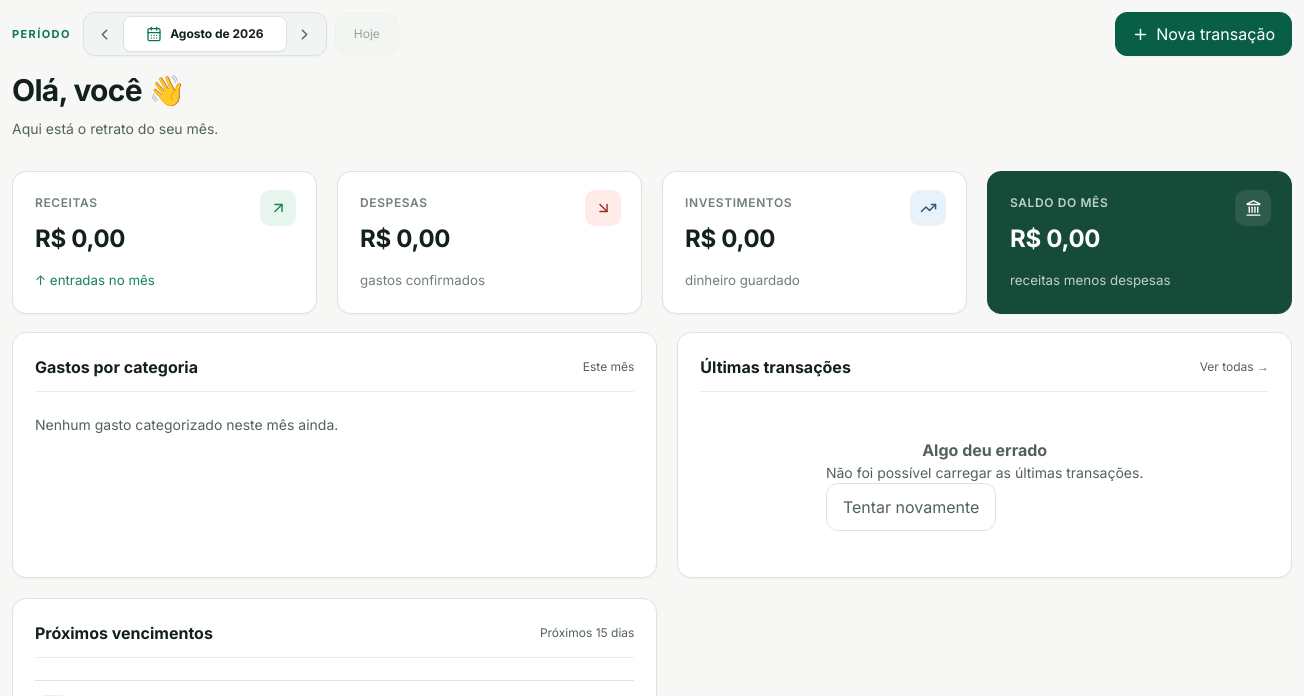
it: Dashboard upcoming kinds › shows loading and error states in latest transactions and only then renders empty
Check: the element "Últimas transações" shows "Não foi possível carregar as últimas transações", box 826,464 -> 1143,481
Check: the text "Nenhuma transação neste mês ainda." is not shown
Click the button "Tentar novamente" at [911, 507], box 826,483 -> 996,531
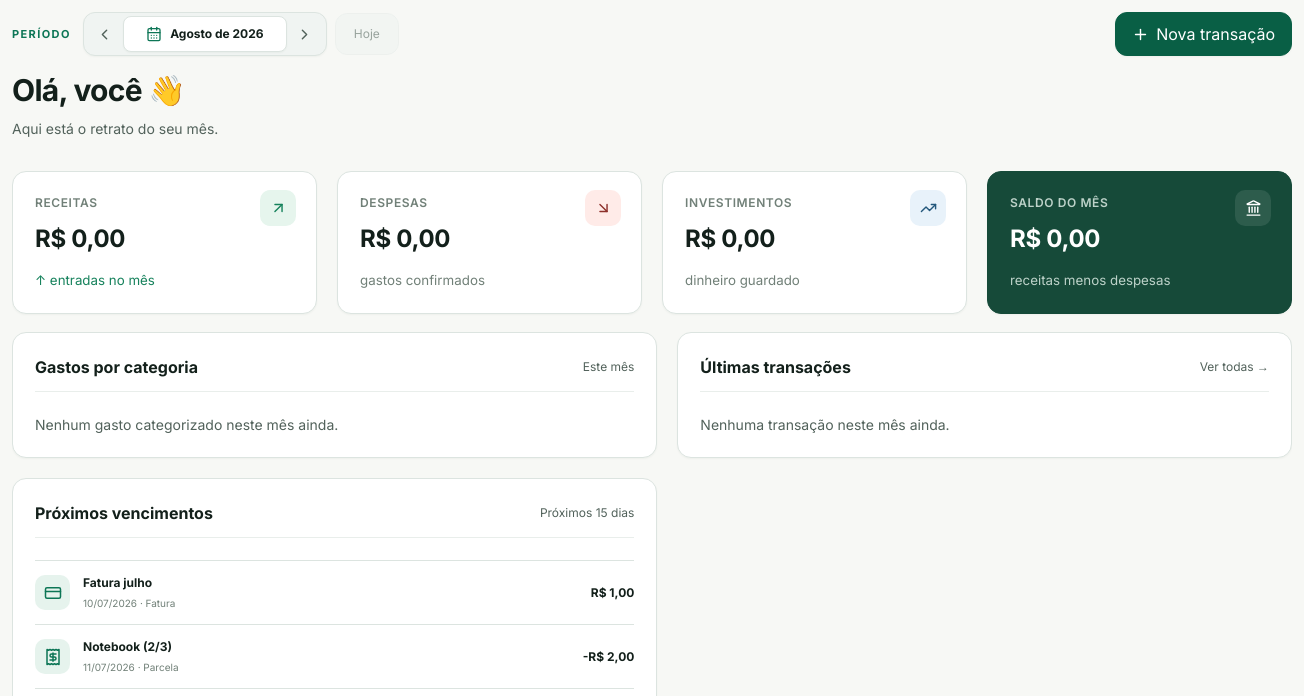
Check: the text "Nenhuma transação neste mês ainda." is shown, box 700,416 -> 950,433
